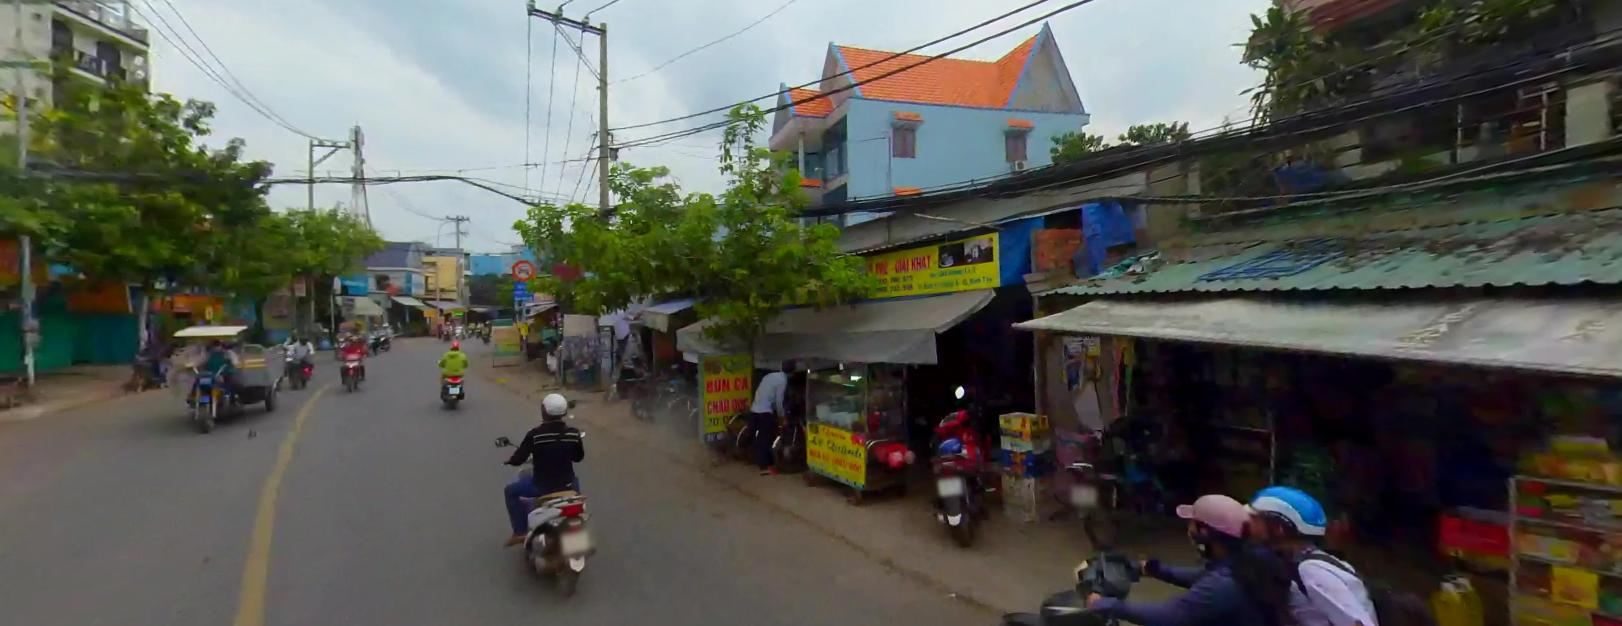Cam con lai: (510, 257, 534, 279)
